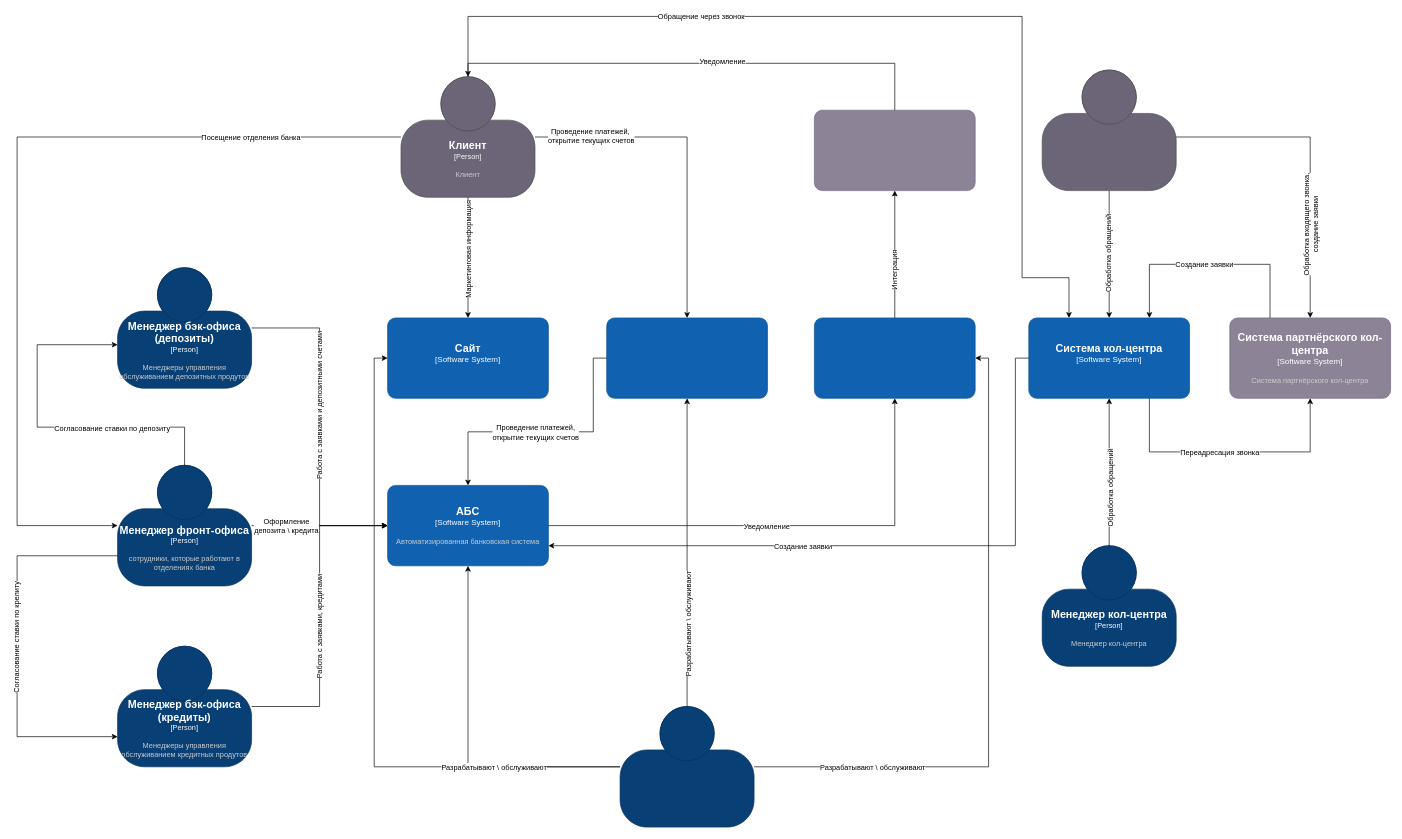
The diagram is 1402 pixels wide and 839 high, and some of its shapes have lost their labels. Each missing label, with the box of its shape:
Интернет банк [Software System] открытие депозитов и накопительных счетов: (606, 317, 767, 398)
Партнерский кол-центр [Person] Партнерский кол-центр: (1042, 69, 1176, 191)
СМС-шлюз телеком-оператора [Software System]: (814, 317, 975, 398)
Сотрудники IT отдела [Person] Сотрудники IT отдела: (619, 706, 754, 827)
Телеком-оператор [Software System] внешний оператор по отправке СМС: (814, 110, 975, 191)
